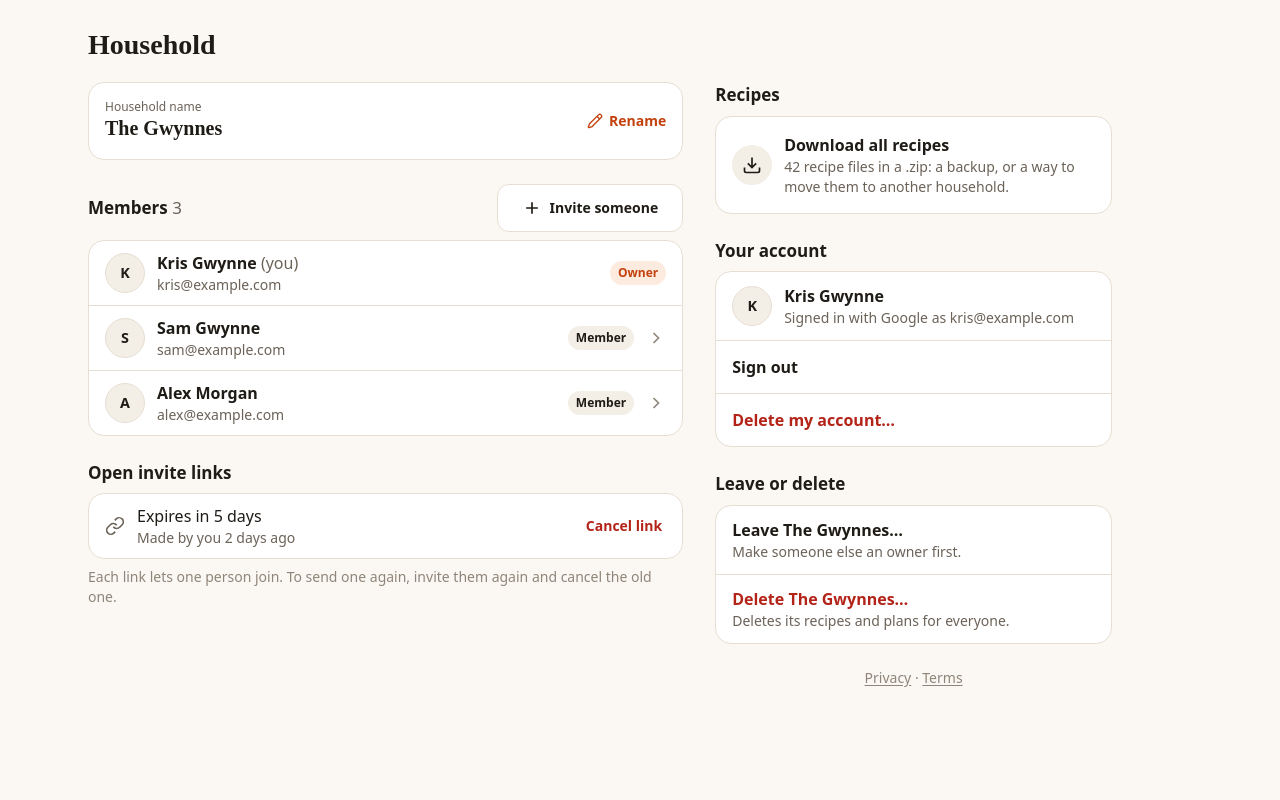
Test case: as an owner (design A, B) › shows a problem with the new name
This screenshot has width=1280, height=800.
Click the button "Household name The Gwynnes Rename".
click(153, 106)  # box [88,82,683,160]
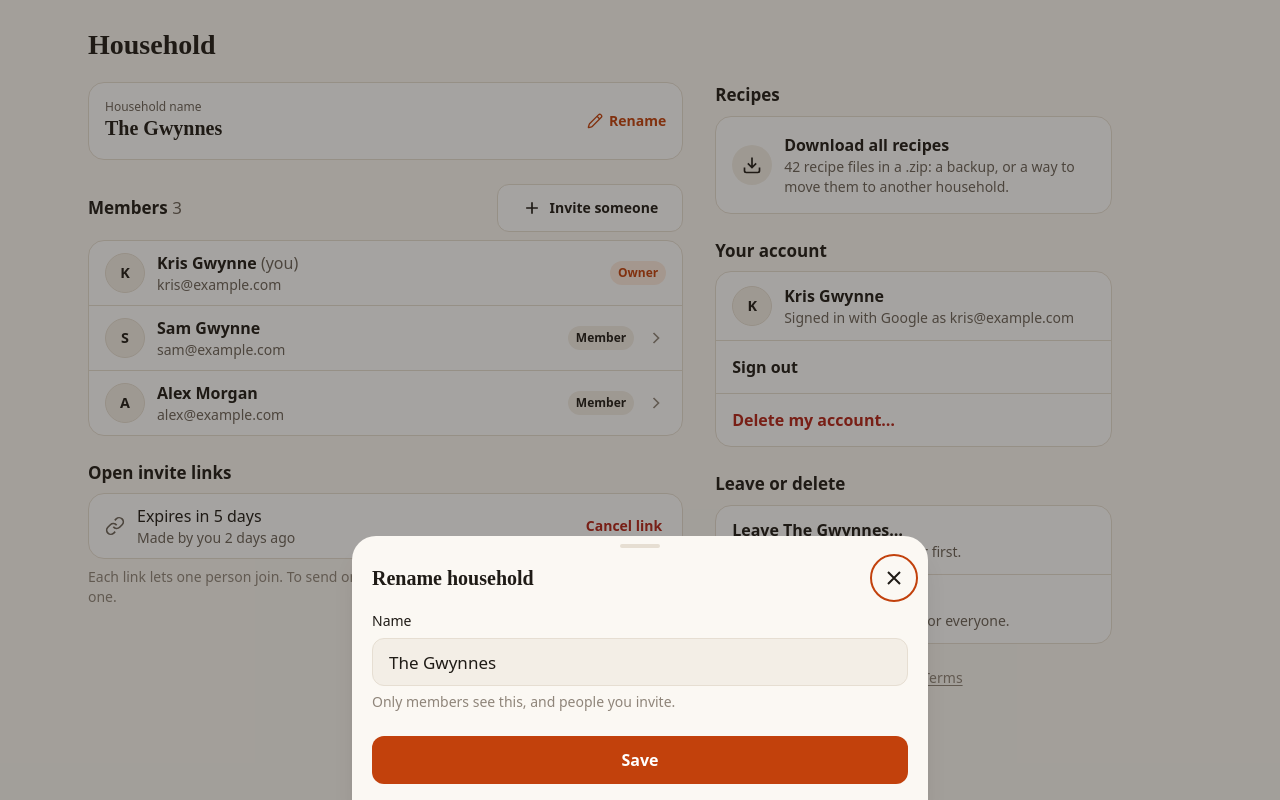
Click the button "Save".
click(640, 760)  # box [372,736,908,784]
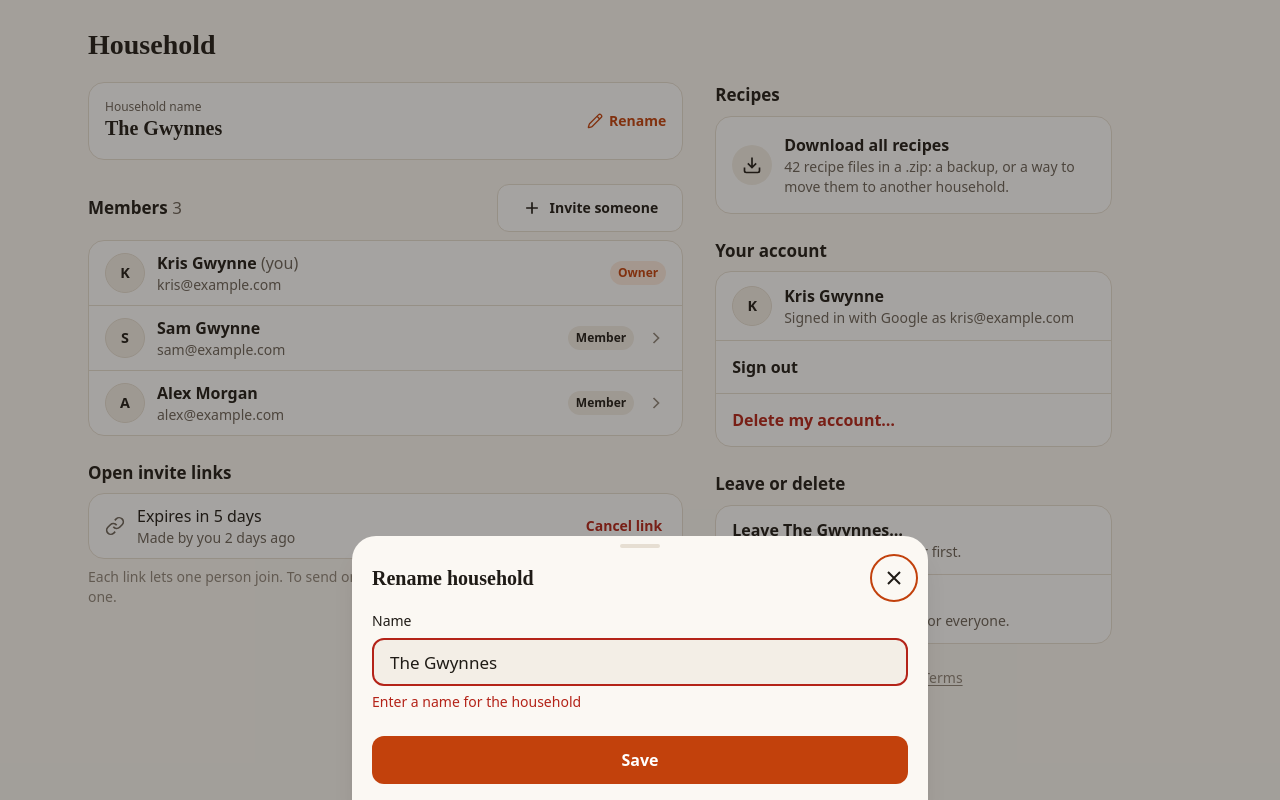
Now the text "Enter a name for the household" is shown, box [372,692,581,711]
